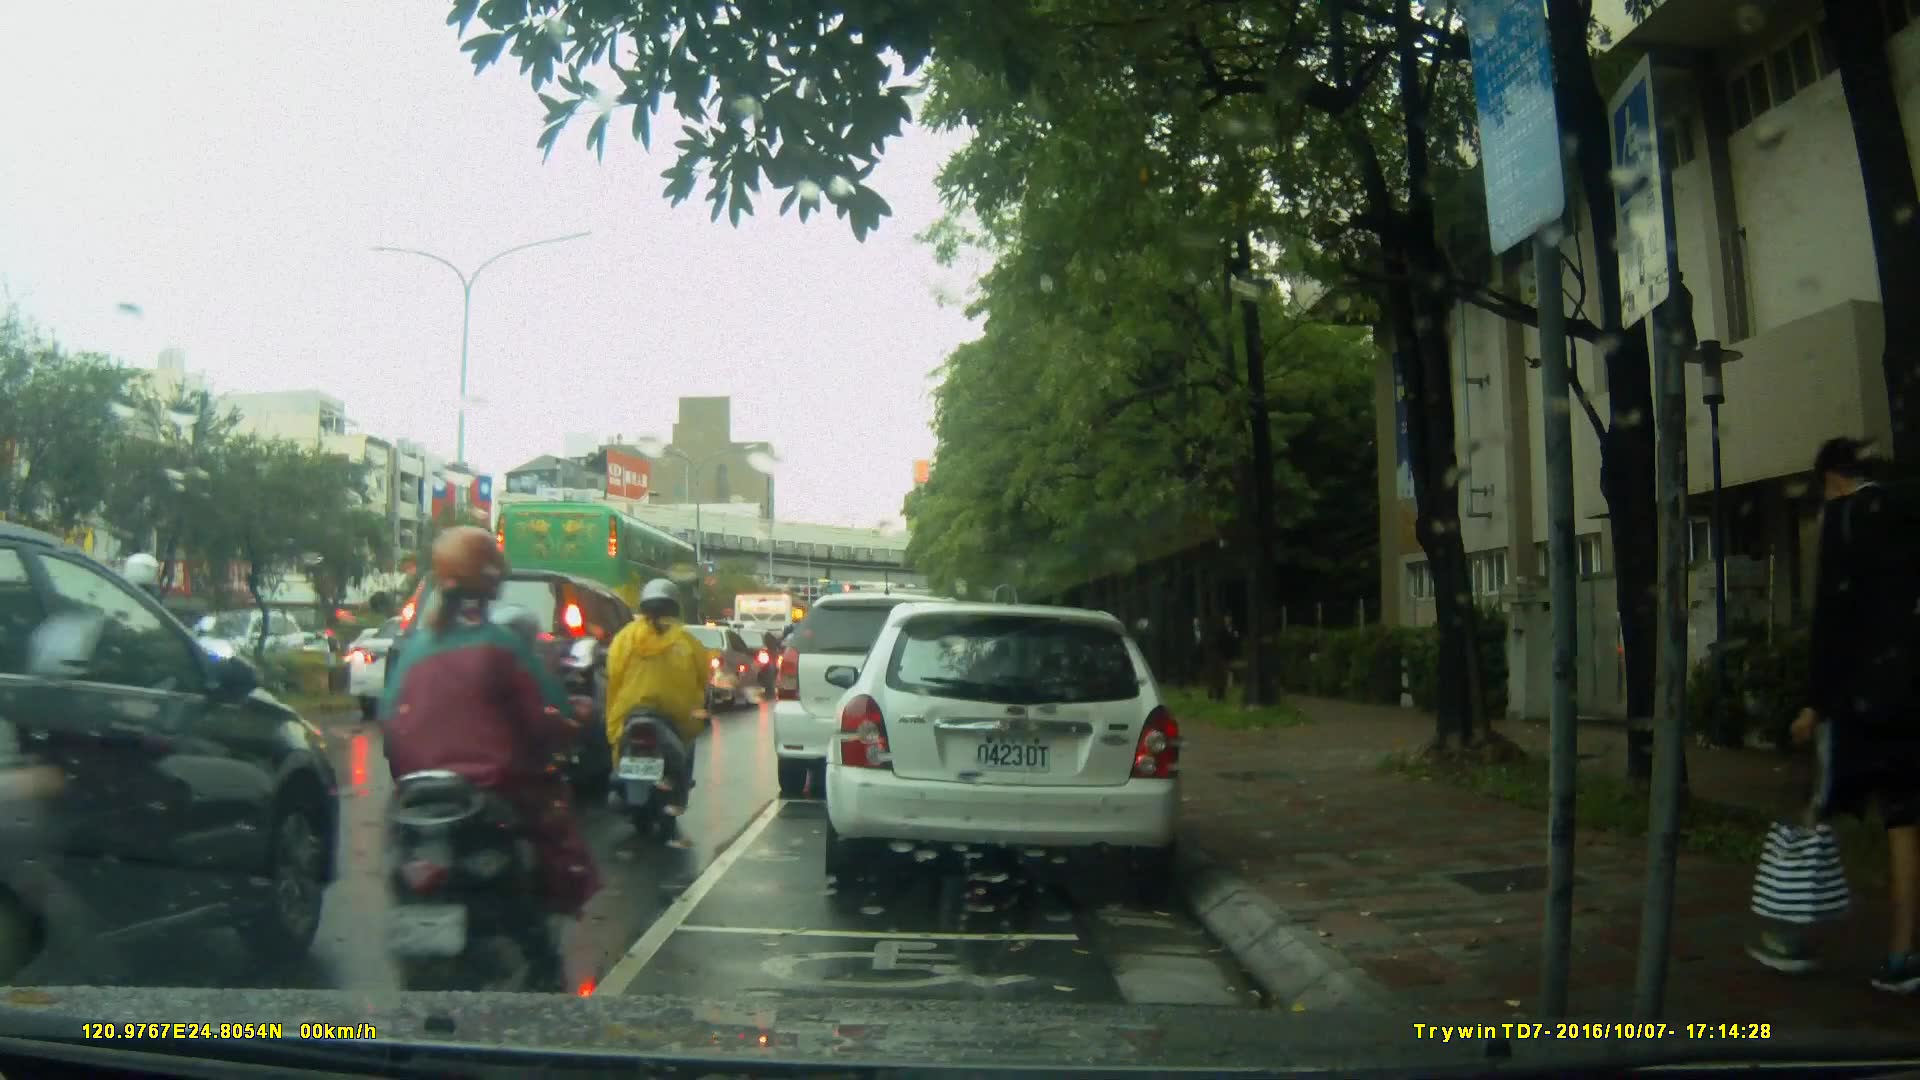pedestrian: (1744, 441, 1920, 1003)
rider: (386, 527, 604, 992), (606, 574, 720, 843), (97, 552, 209, 789)
vehicle: (2, 519, 322, 988), (831, 592, 1196, 897), (385, 564, 671, 803), (770, 592, 999, 801), (492, 498, 705, 659), (160, 601, 308, 701), (646, 624, 763, 711)
